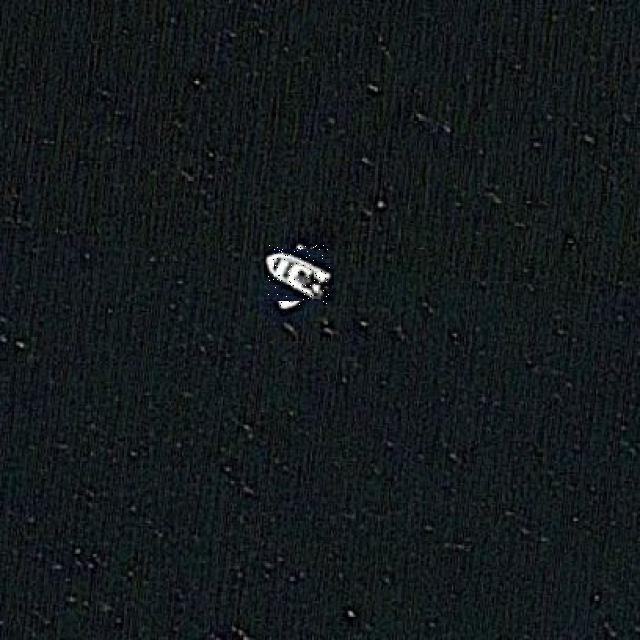boat: (268, 245, 330, 306)
